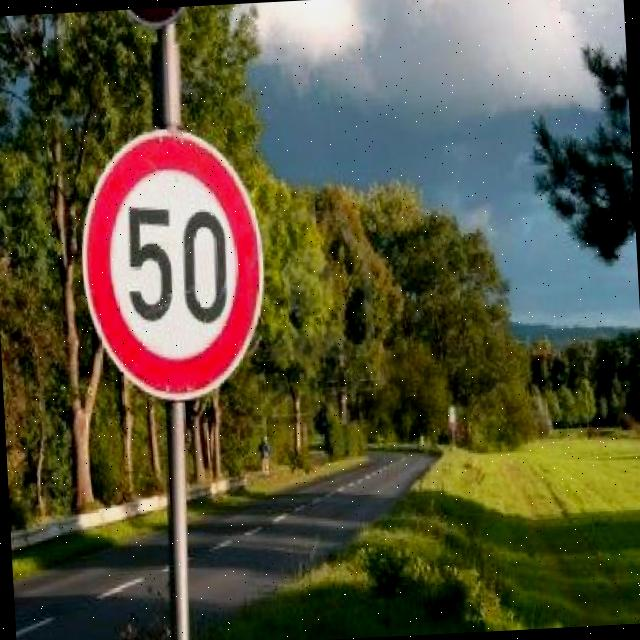Ograniczenie predkosci do 50: (74, 129, 275, 400)
